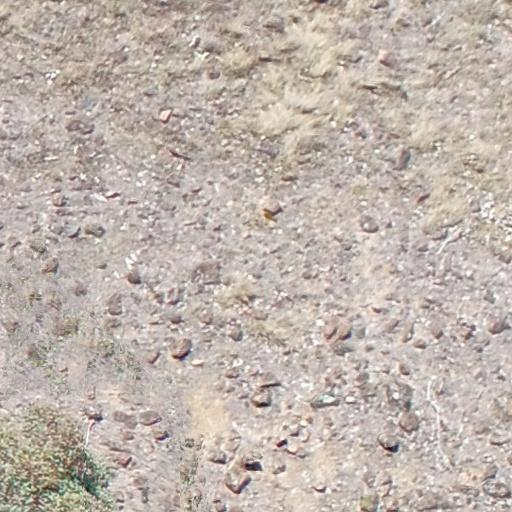stone: (388, 379, 416, 406), (470, 410, 496, 436), (192, 260, 220, 283), (89, 331, 114, 356), (74, 92, 100, 116), (457, 466, 485, 488), (409, 491, 443, 509), (374, 79, 404, 99), (481, 477, 508, 499), (256, 366, 282, 388), (379, 436, 402, 460), (0, 119, 24, 142), (345, 118, 370, 140), (180, 488, 204, 510), (436, 251, 456, 277), (4, 239, 24, 265), (255, 140, 280, 160), (195, 38, 222, 56), (239, 451, 265, 469), (109, 46, 130, 68), (101, 316, 124, 336), (291, 400, 314, 420), (262, 15, 286, 34), (396, 410, 416, 432), (226, 469, 246, 490), (358, 493, 380, 512), (125, 262, 142, 286), (478, 462, 498, 482), (170, 146, 198, 160), (66, 121, 96, 134), (332, 341, 356, 357), (254, 390, 272, 410), (311, 398, 341, 410), (322, 321, 340, 341), (280, 422, 300, 440), (128, 473, 148, 491), (1, 318, 19, 337), (32, 238, 46, 262), (262, 199, 283, 215), (326, 366, 342, 387), (70, 277, 85, 299), (202, 312, 220, 330), (417, 294, 434, 313), (114, 409, 134, 425), (300, 264, 320, 280), (10, 73, 32, 87), (495, 248, 512, 266), (376, 472, 393, 490), (361, 470, 378, 488), (315, 318, 334, 334), (108, 290, 120, 315), (55, 314, 76, 328), (210, 496, 228, 512), (176, 336, 189, 358), (429, 227, 449, 241), (85, 407, 102, 423), (489, 321, 506, 337), (396, 362, 412, 379), (28, 289, 44, 306), (360, 217, 378, 232), (281, 167, 299, 182), (482, 287, 497, 305), (53, 191, 69, 207), (166, 174, 182, 190), (410, 335, 426, 351), (86, 221, 103, 236), (382, 497, 400, 511), (481, 201, 495, 219), (365, 0, 390, 10), (356, 386, 378, 397), (145, 406, 160, 422), (198, 310, 213, 326), (489, 434, 509, 446), (377, 49, 392, 65), (169, 282, 182, 300), (351, 371, 369, 384), (400, 146, 409, 171), (224, 366, 240, 380), (229, 327, 243, 343), (428, 323, 442, 339), (206, 68, 222, 82), (285, 439, 301, 453), (44, 70, 58, 86), (385, 314, 398, 331), (112, 458, 132, 469), (454, 326, 472, 338), (90, 192, 108, 204), (414, 190, 429, 204), (422, 30, 437, 44), (401, 325, 412, 344), (354, 325, 366, 342), (221, 436, 235, 450), (188, 35, 202, 49), (41, 259, 57, 271), (339, 322, 351, 338), (23, 344, 37, 357), (106, 187, 121, 199), (158, 112, 172, 124), (272, 463, 286, 475), (299, 428, 311, 442), (148, 314, 164, 324), (50, 223, 64, 234), (381, 344, 392, 358), (86, 387, 97, 401), (17, 198, 29, 210), (372, 302, 384, 314), (190, 358, 206, 367), (446, 65, 458, 77), (461, 166, 472, 179), (36, 53, 50, 63), (312, 484, 327, 493), (94, 260, 106, 271), (345, 394, 356, 406), (212, 448, 222, 461), (273, 436, 286, 446), (463, 182, 476, 192), (386, 293, 400, 302), (192, 184, 202, 196), (157, 428, 168, 438), (70, 228, 78, 241), (366, 345, 375, 356), (6, 242, 22, 248), (171, 314, 183, 322), (504, 20, 511, 33), (451, 230, 462, 238), (16, 52, 24, 63), (493, 17, 500, 28), (201, 203, 215, 208), (150, 351, 158, 359)
